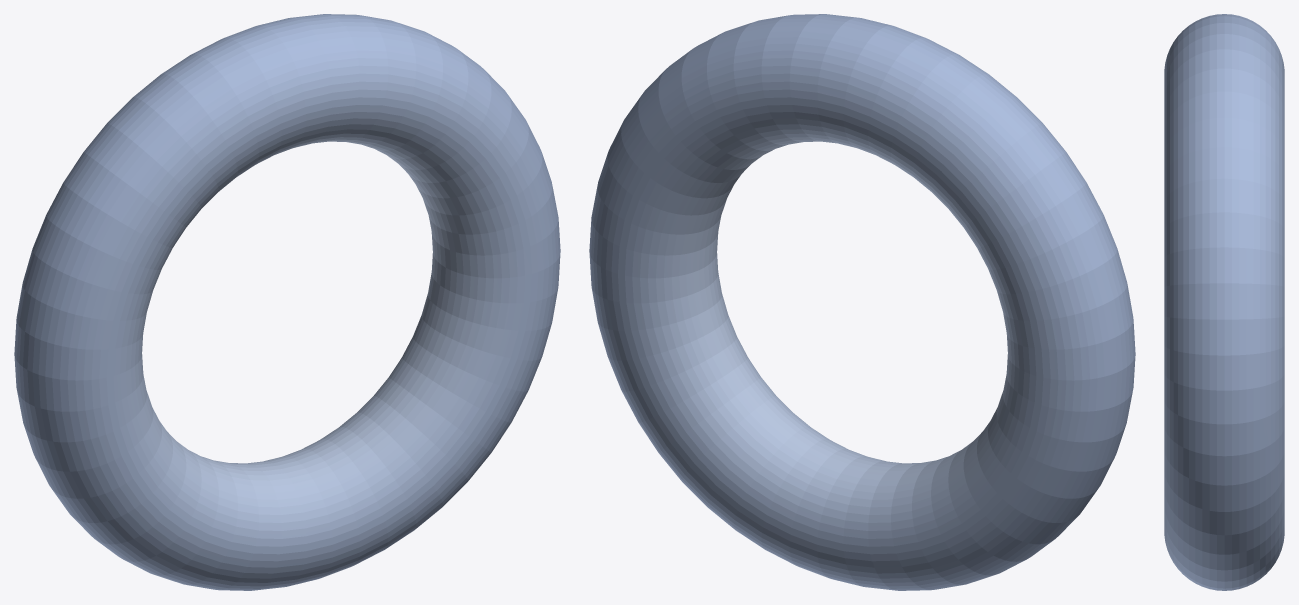
The picture shows the model from 3 angles, left to right: view 1: azimuth 30°, elevation 25°; view 2: azimuth 150°, elevation 25°; view 3: azimuth 270°, elevation 25°; orthographic projection. The views are drawn at different scales.
Parts seen in each view (by area): view 1: world; view 2: world; view 3: world.
Boxes of the visible parts, box(x1,y1,x2,y2) form: world: box(14, 14, 560, 590); world: box(589, 14, 1135, 590); world: box(1164, 14, 1284, 590).
Size of the model in its own units: 23.6 by 23.55 by 4.92.
